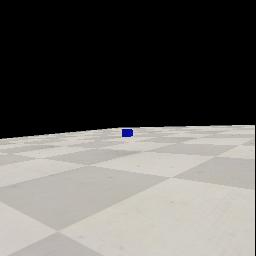box: (122, 129, 133, 137)
